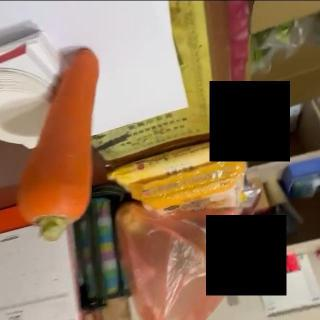carrot: (18, 48, 102, 238)
